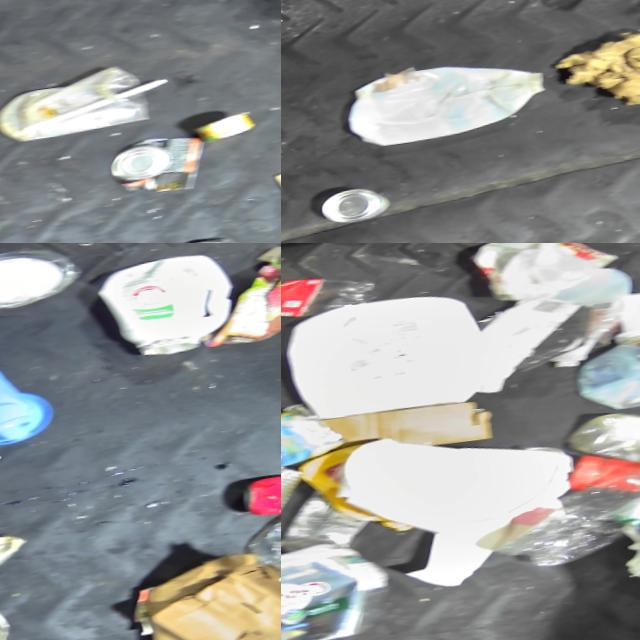can: (281, 444, 315, 557), (316, 181, 398, 226), (607, 281, 640, 351)
milk_jug: (281, 285, 504, 424), (341, 49, 557, 155), (457, 243, 630, 307), (247, 462, 281, 522)
non_white_jug: (0, 320, 69, 469)
plastic_bottle: (488, 450, 640, 576), (567, 392, 640, 481), (281, 267, 378, 324)
